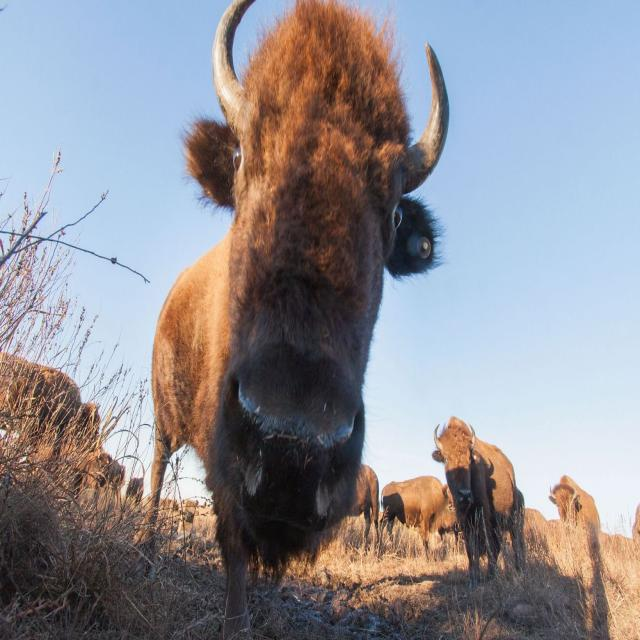Bison: (138, 0, 456, 628)
